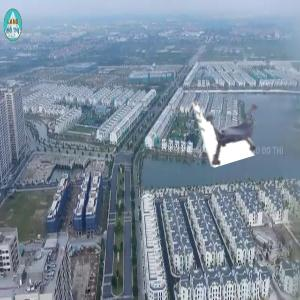drone: (198, 80, 279, 161)
